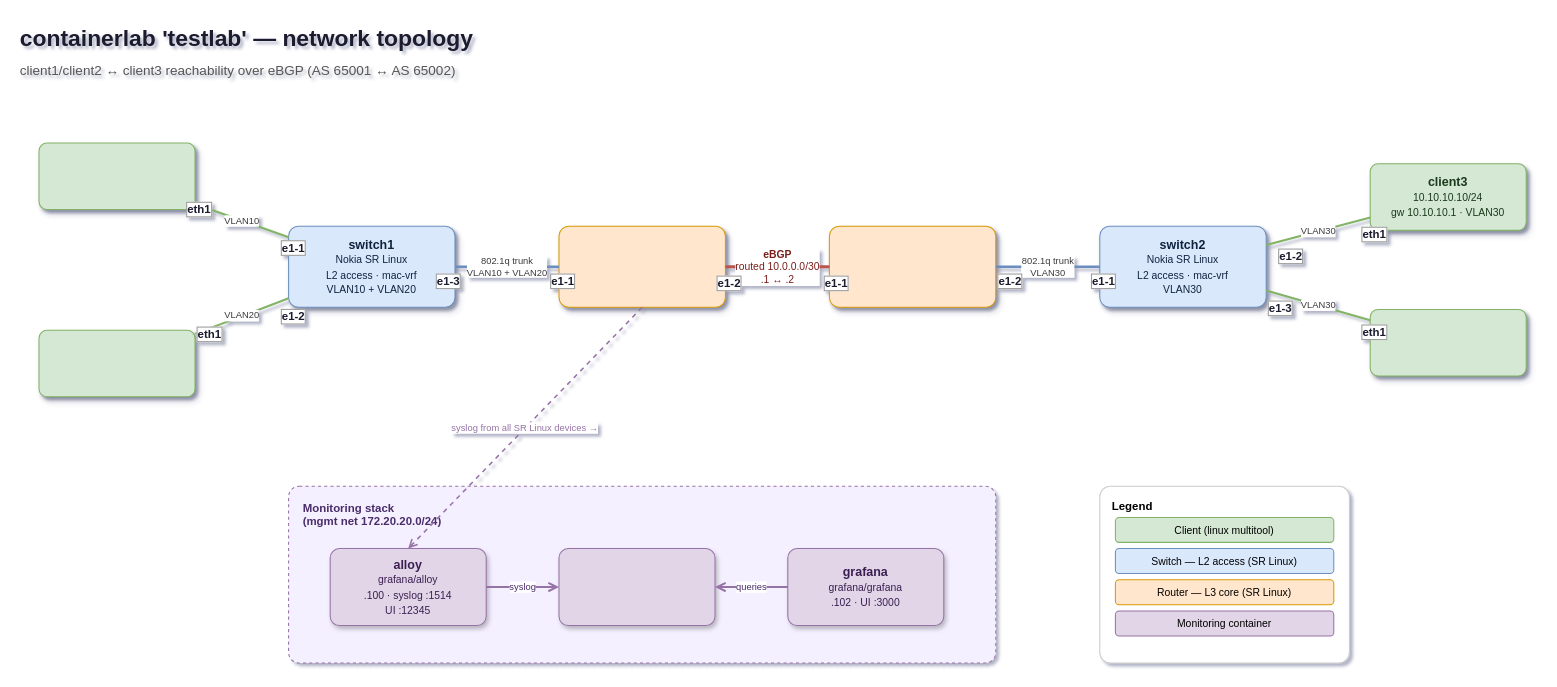
Image size: 1557x687. Some labels were removed from this diagram. Here are the shapes that lost their labels. From the top down, the centre of each, then its label:
the point at 117,177: client1 192.168.1.10/24 gw 192.168.1.1 · VLAN10
the point at 643,268: router1 Nokia SR Linux L3 core · AS 65001 gw .1 for VLAN10/20
the point at 913,268: router2 Nokia SR Linux L3 core · AS 65002 gw 10.10.10.1 · VLAN30
the point at 1448,343: client4 10.10.10.11/24 gw 10.10.10.1 · VLAN30
the point at 117,364: client2 192.168.10.10/24 gw 192.168.10.1 · VLAN20
the point at 637,588: loki grafana/loki .101 · :3100
